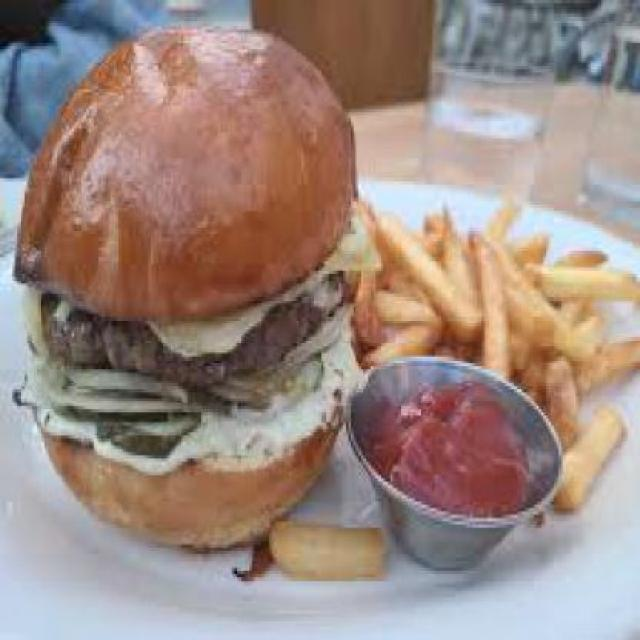french fries: (358, 192, 628, 492)
hamburger: (15, 19, 356, 535)
